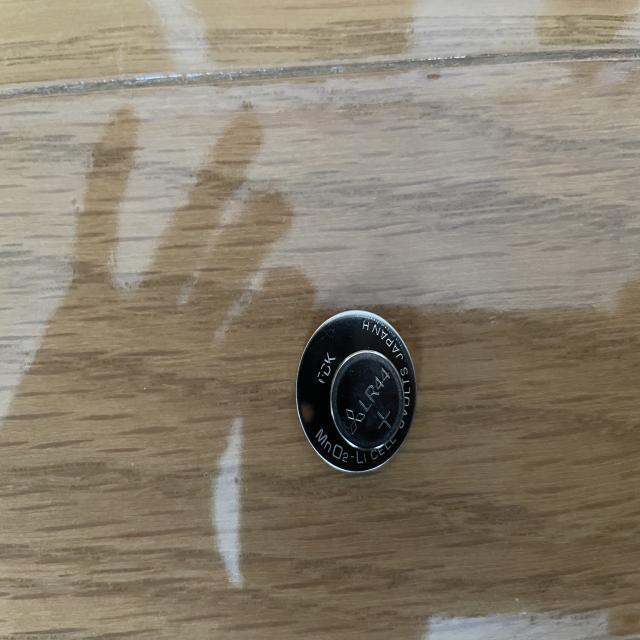COIN: (291, 307, 421, 473), (329, 348, 406, 454)
